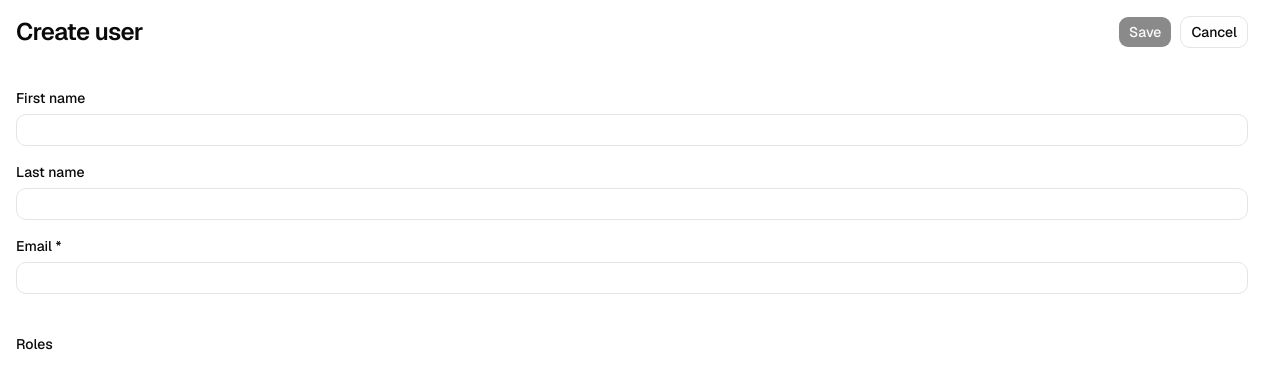
Test case: CreateUserForm › freezes the form and shows Saving… while the action is pending
The width and height of the screenshot is (1265, 375).
In the field with test id "create-user-email": (632, 278) [16,262,1248,294], type "ada@example.com"
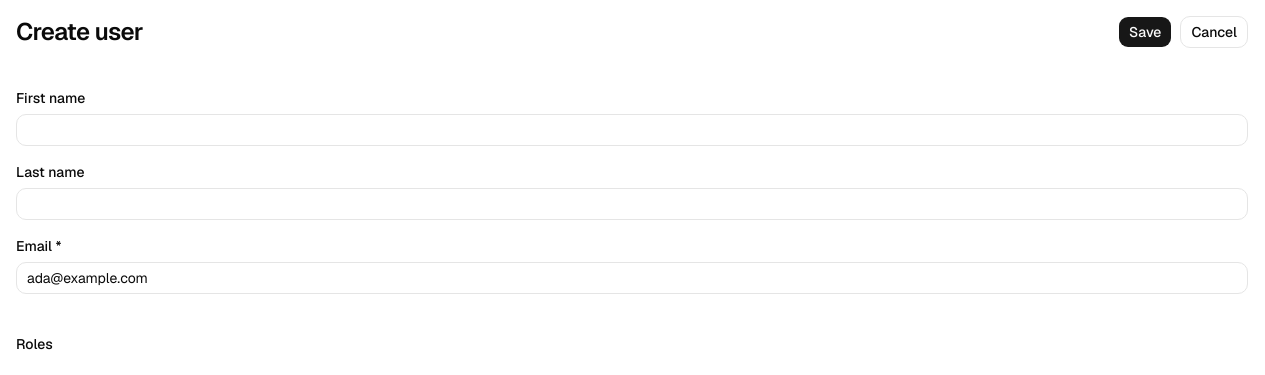
Submit the form with test id "create-user-form"
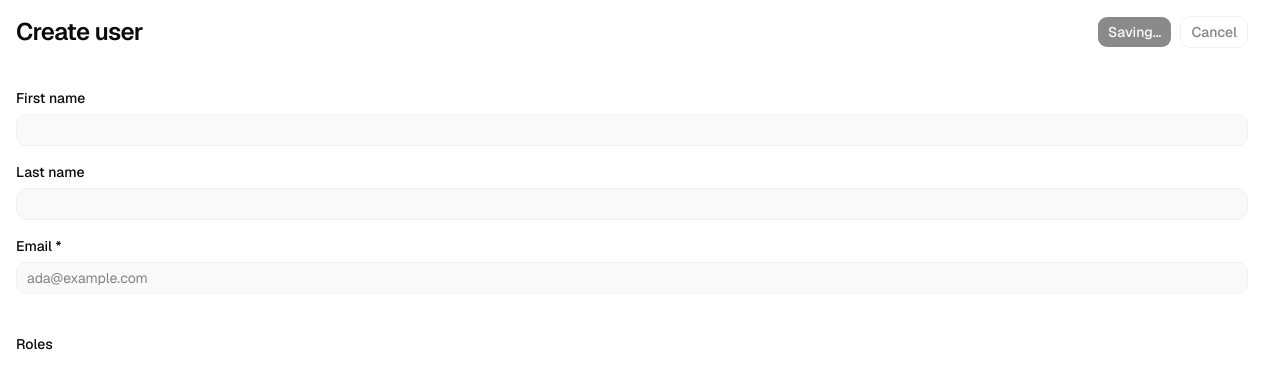
Expected: the button with test id "create-user-submit" reads "Saving…", [1097,16,1172,48]
Expected: the field with test id "create-user-email" is disabled, [16,262,1248,294]
